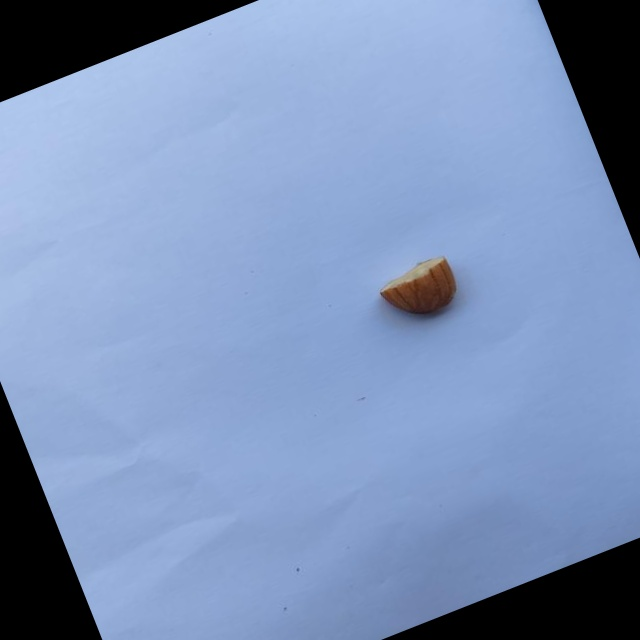grade4: (365, 246, 473, 338)
